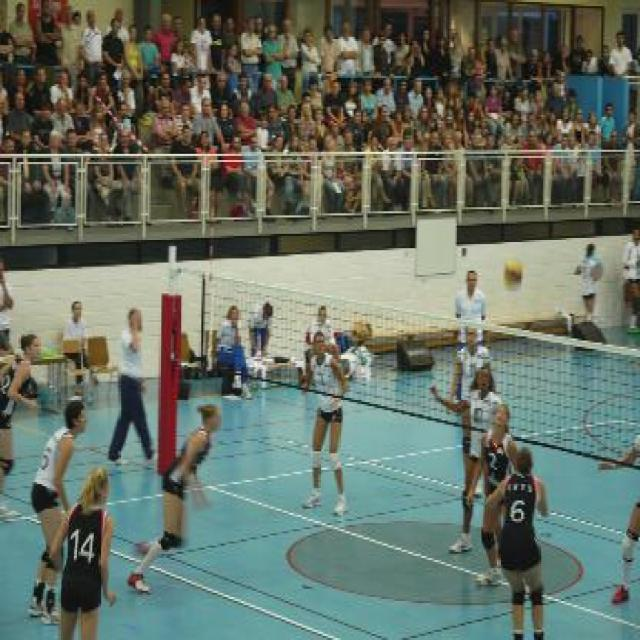volleyball: (502, 260, 524, 292)
